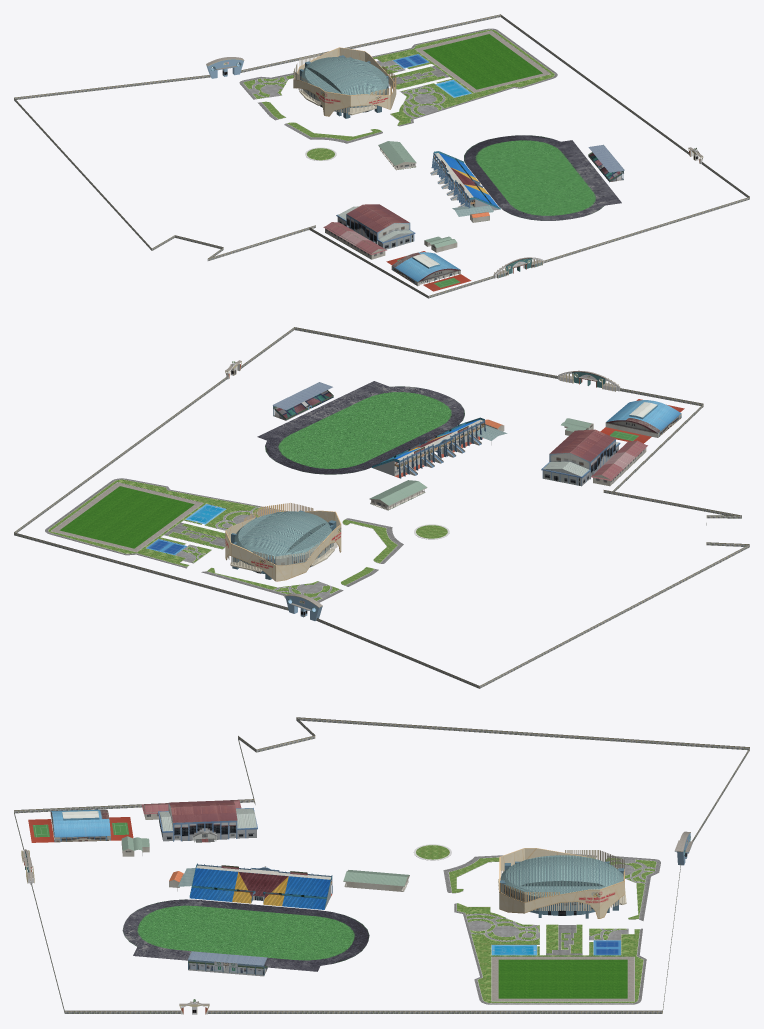
The model's file is Tongkhu.glb.
3 renders of one model, top to bottom at view 1: azimuth 30°, elevation 25°; view 2: azimuth 150°, elevation 25°; view 3: azimuth 270°, elevation 25°, orthographic. The views are drawn at different scales.
Parts seen in each view (by area): view 1: KHuonVien, 8-01, 3, 7, 2, 5, 6, 8, 1, 4, Cong02, Cong Chinh; view 2: KHuonVien, 8-01, 3, 7, 2, 5, 6, 1, 8, 4, Cong Chinh, Cong02; view 3: KHuonVien, 8-01, 3, 7, 2, 5, 6, 1, 4, 6-02, 6-01.
Part boxes in pixels (x1,y1,x2,y2): KHuonVien: (239,28,557,160); 8-01: (464,135,621,220); 3: (293,47,396,118); 7: (14,14,749,298); 2: (430,151,500,216); 5: (336,204,415,249); 6: (391,252,460,286); 8: (323,222,386,259); 1: (588,144,624,182); 4: (378,141,416,170); Cong02: (206,57,244,78); Cong Chinh: (493,257,543,278); KHuonVien: (45,478,449,602); 8-01: (257,381,464,474); 3: (225,503,341,581); 7: (14,327,749,688); 2: (372,417,507,478); 5: (541,429,620,486); 6: (605,400,681,437); 1: (272,382,333,420); 8: (591,440,647,486); 4: (369,480,427,510); Cong Chinh: (558,370,620,391); Cong02: (285,593,322,620); KHuonVien: (413,844,660,1004); 8-01: (122,899,369,971); 3: (498,848,626,918); 7: (14,717,749,1013); 2: (177,863,332,909); 5: (158,800,257,842); 6: (50,809,110,842); 1: (188,951,267,976); 4: (343,870,409,891); 6-02: (28,819,54,842); 6-01: (109,817,133,840).
Bounding box in the file's own units: 446 × 23.47 × 472.
Materials: 17 (17 with a texture image).
